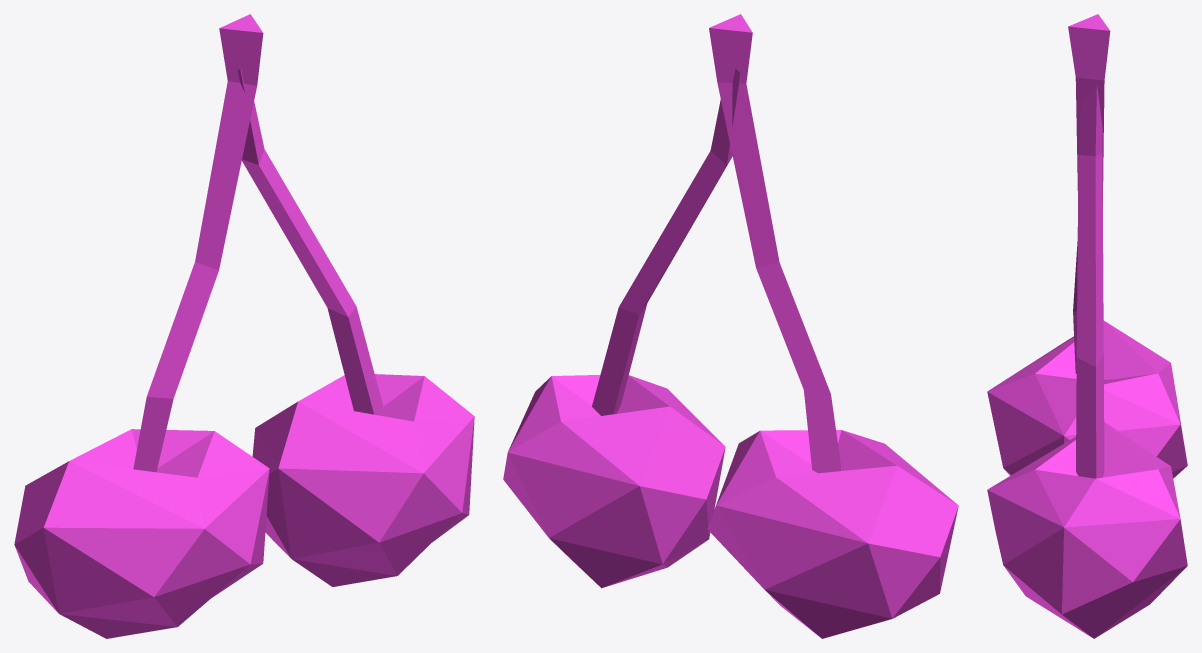
Rendered from SM_Cherry_B.fbx.
3 views of the same model, side by side, from view 1: azimuth 30°, elevation 25°; view 2: azimuth 150°, elevation 25°; view 3: azimuth 270°, elevation 25° (orthographic). The views are drawn at different scales.
Parts seen in each view (by area): view 1: SM_Cherry_B; view 2: SM_Cherry_B; view 3: SM_Cherry_B.
Part boxes in pixels (x1,y1,x2,y2): SM_Cherry_B: [14, 14, 474, 638]; SM_Cherry_B: [503, 14, 958, 638]; SM_Cherry_B: [987, 14, 1187, 638].
Size of the model in its own units: 0.1159 by 0.1471 by 0.0495.
